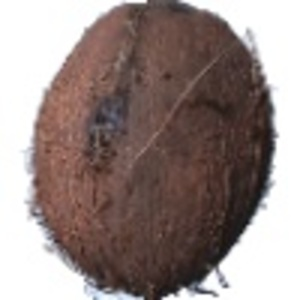coco: (23, 1, 277, 300)
